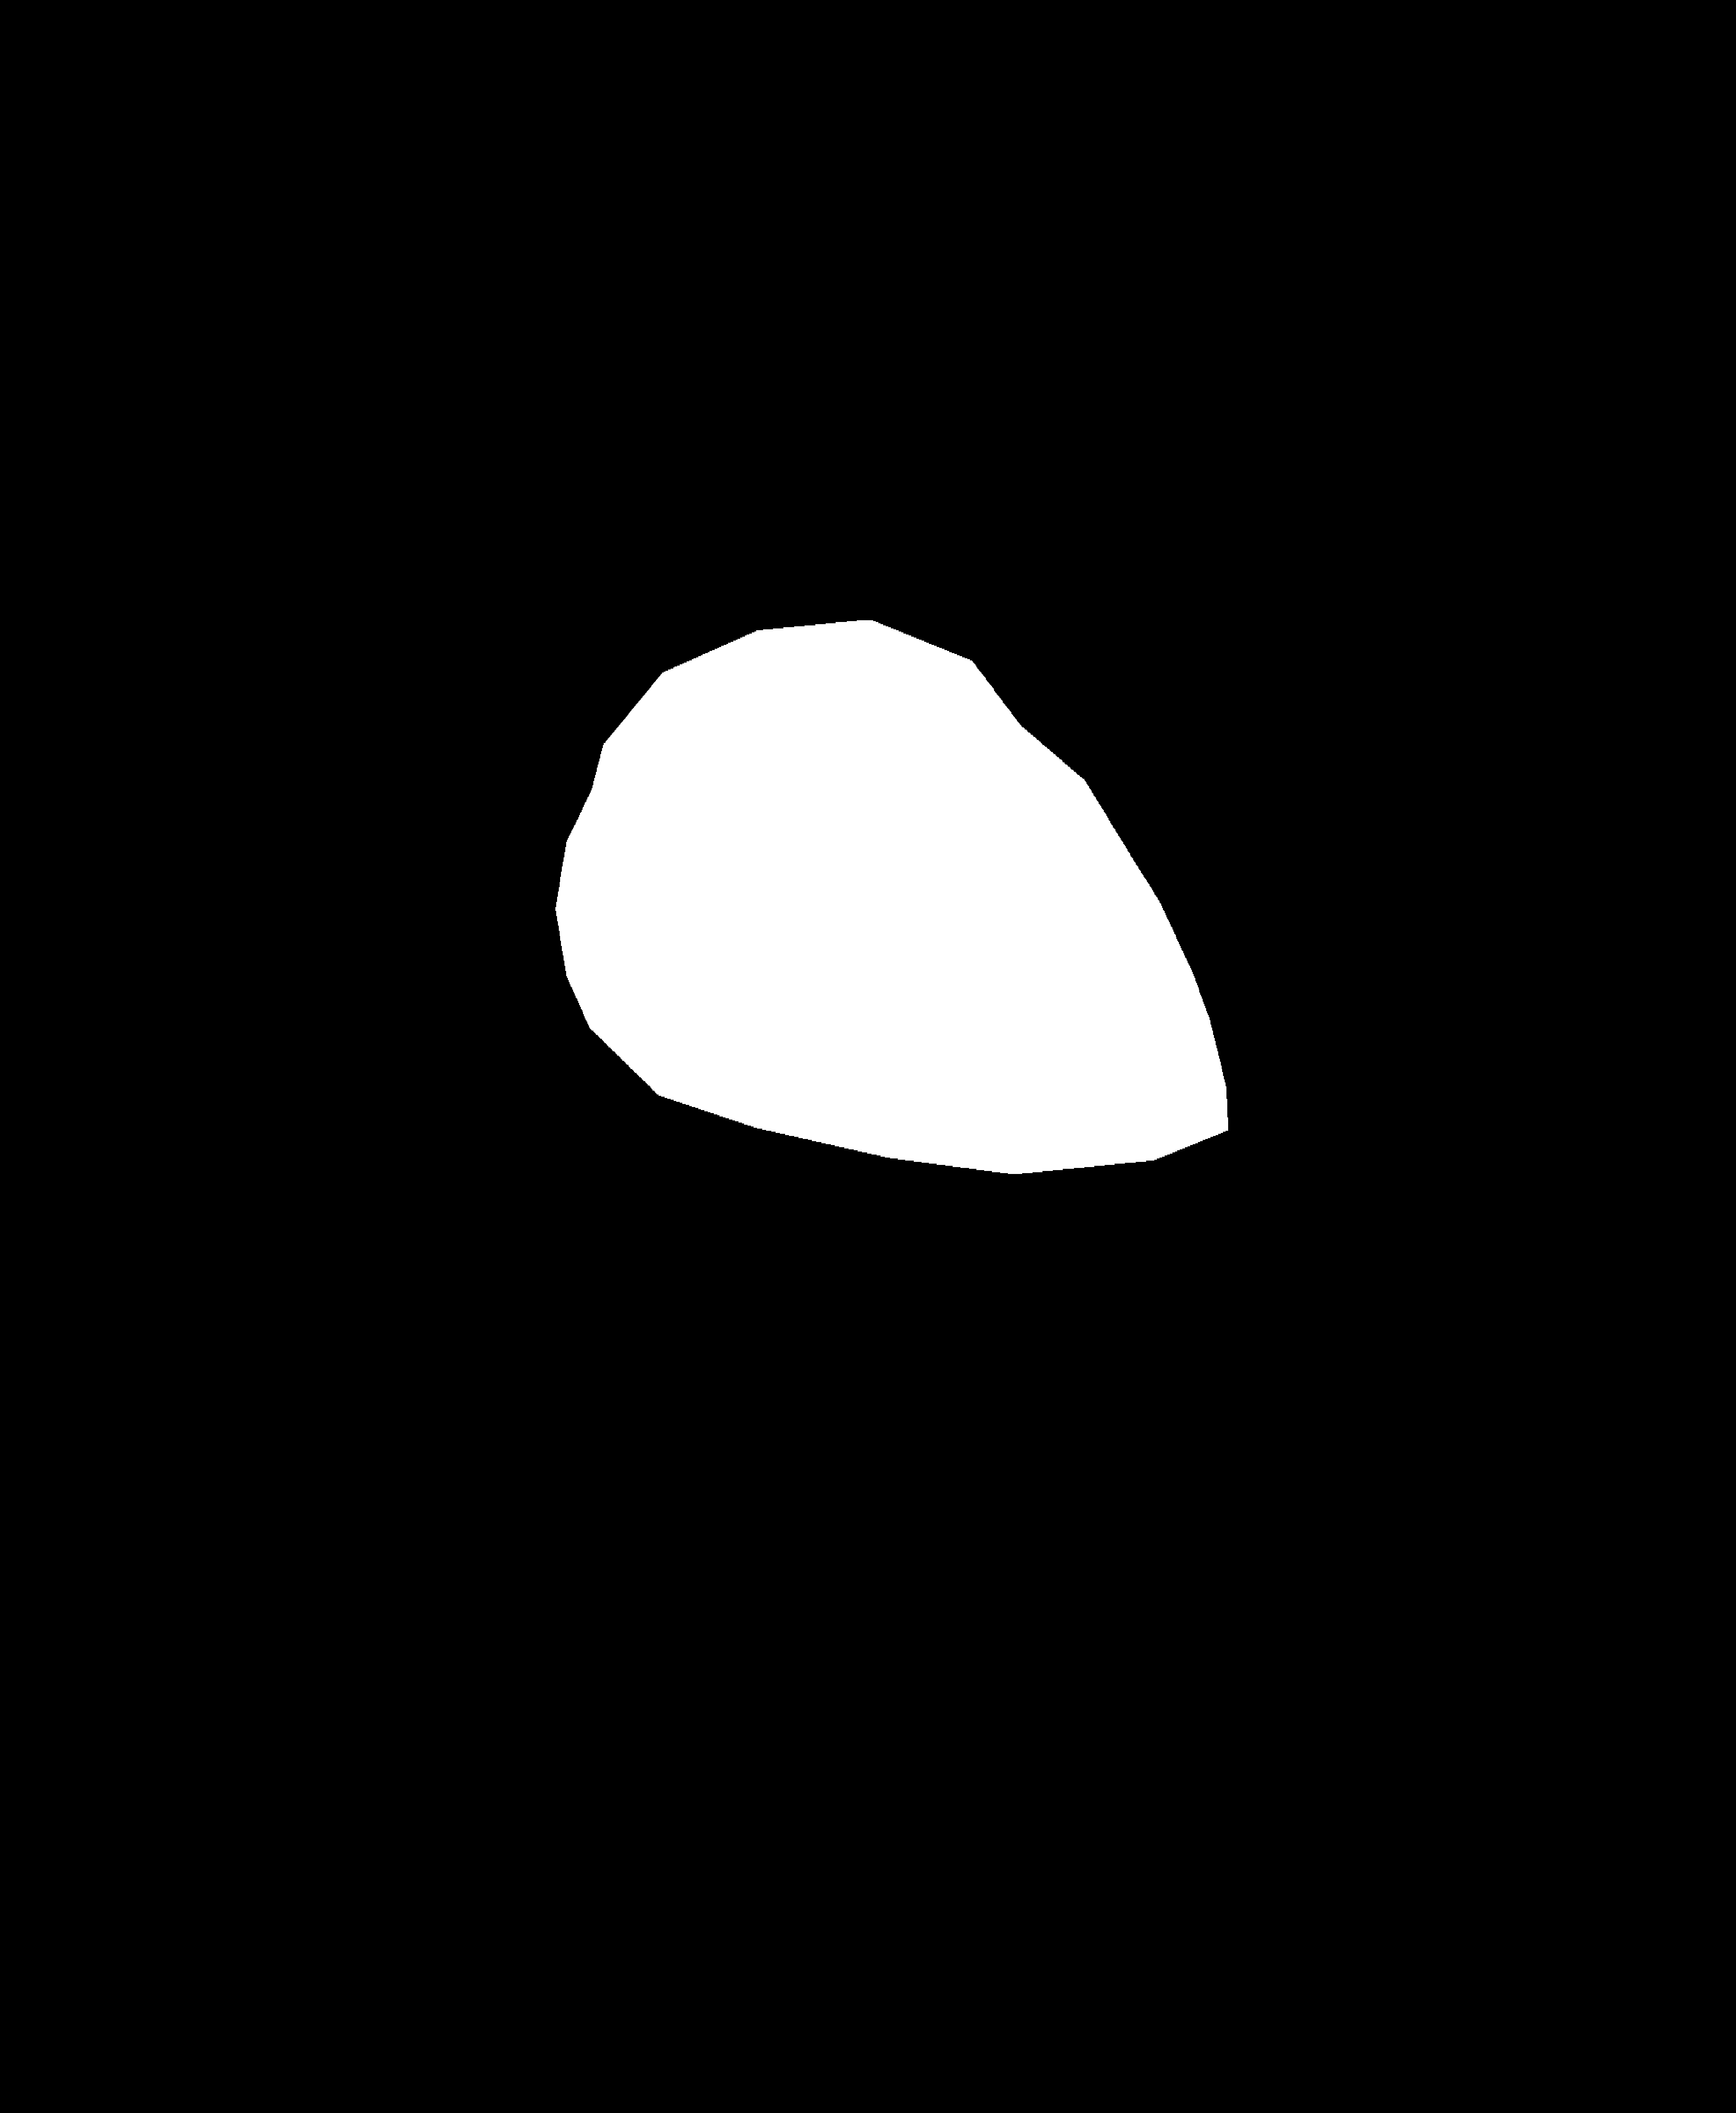heart: (560, 688, 1236, 1239)
left_lung: (172, 156, 723, 1237)
right_lung: (857, 133, 1510, 1322)
